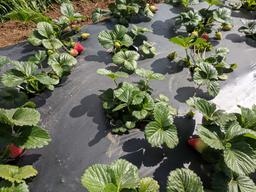green strawberry: (188, 137, 209, 154), (68, 48, 78, 56), (215, 31, 222, 40), (81, 32, 91, 38)
red strawberry: (7, 142, 25, 158), (74, 42, 84, 52)
